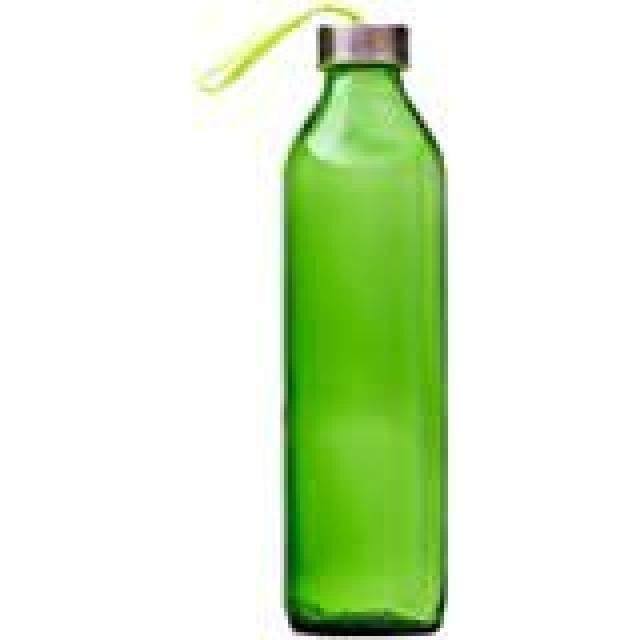glass: (282, 0, 454, 636)
